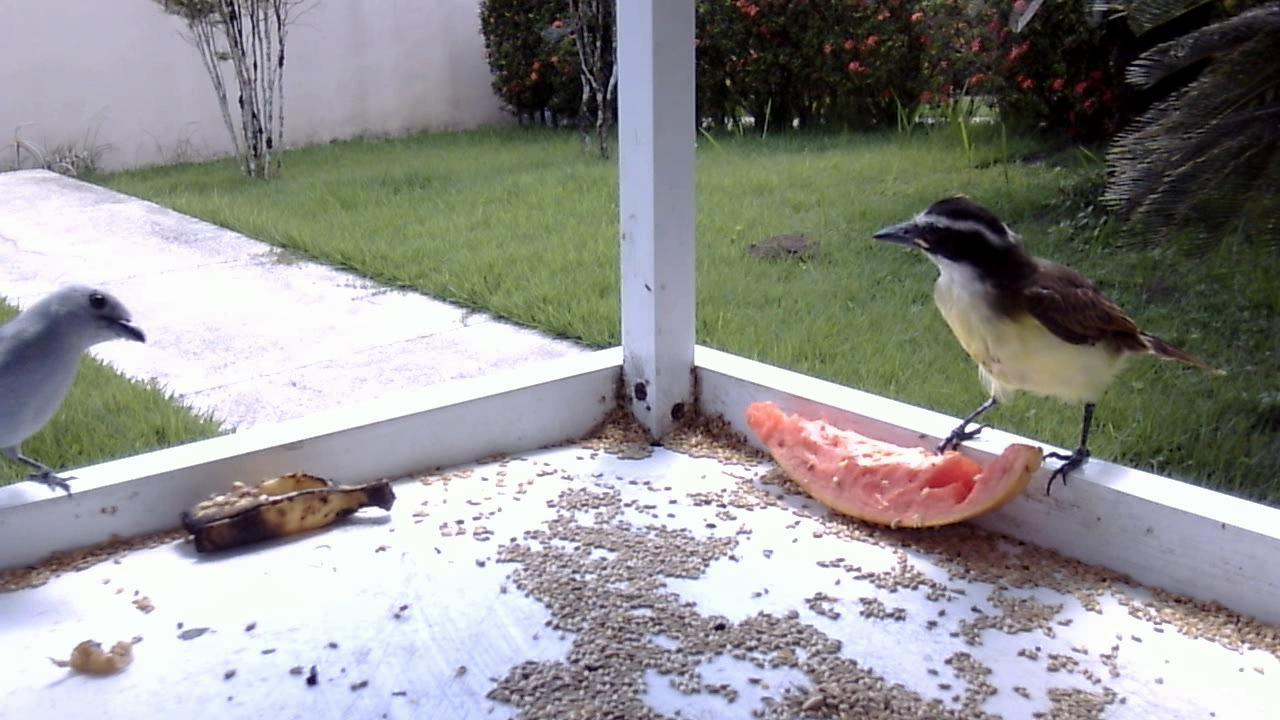bem_te_vi: (864, 184, 1227, 511)
sanhaco_da_amazonia: (1, 281, 145, 508)
